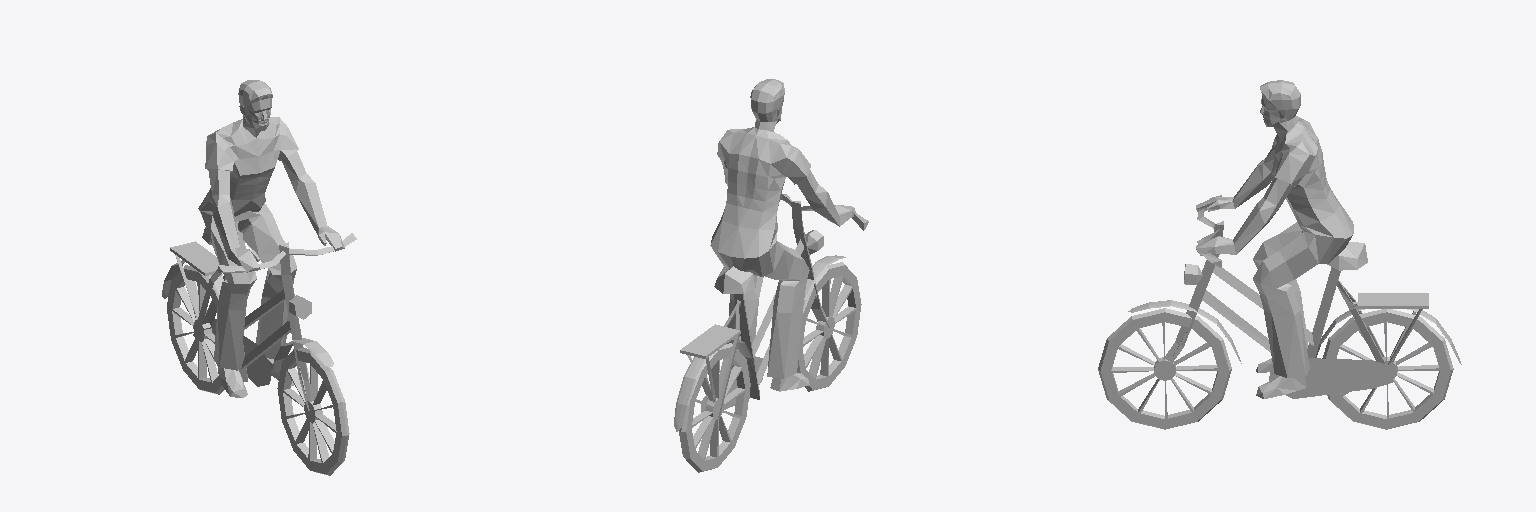
File: bicycle.obj
3 views of the same model, side by side, from view 1: azimuth 30°, elevation 25°; view 2: azimuth 150°, elevation 25°; view 3: azimuth 270°, elevation 25° (orthographic).
Parts seen in each view (by area): view 1: Bicyclist1:Bicycle1:Male_ref1:BluecollarMaleMesh_0; view 2: Bicyclist1:Bicycle1:Male_ref1:BluecollarMaleMesh_0; view 3: Bicyclist1:Bicycle1:Male_ref1:BluecollarMaleMesh_0.
Boxes of the visible parts, x1=… form: Bicyclist1:Bicycle1:Male_ref1:BluecollarMaleMesh_0: x1=162, y1=80, x2=356, y2=475; Bicyclist1:Bicycle1:Male_ref1:BluecollarMaleMesh_0: x1=674, y1=79, x2=868, y2=472; Bicyclist1:Bicycle1:Male_ref1:BluecollarMaleMesh_0: x1=1098, y1=80, x2=1461, y2=429.
Size of the model in its own units: 0.7272 by 1.8 by 1.71.